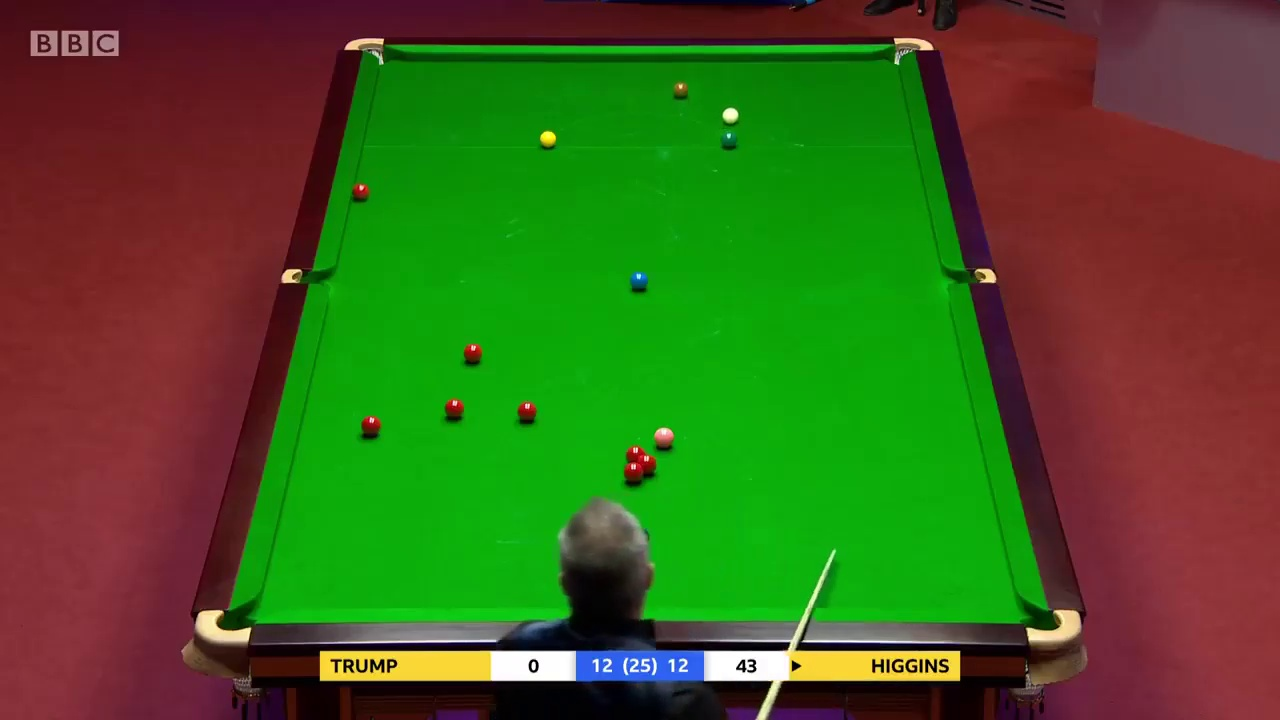ball: (357, 415, 382, 438), (515, 398, 538, 420), (654, 424, 675, 446), (623, 460, 643, 481), (444, 398, 464, 417), (721, 107, 739, 126), (463, 344, 480, 363), (628, 272, 647, 288), (538, 131, 554, 148), (718, 133, 735, 147), (673, 81, 687, 97)
